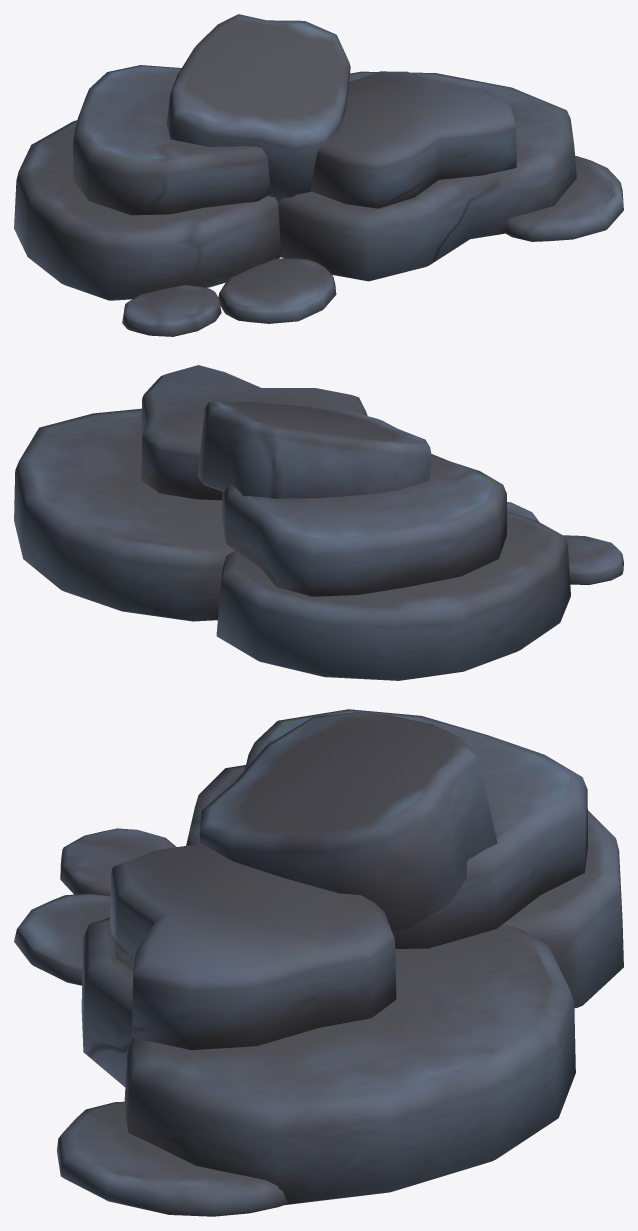
File: rock_3.fbx
3 renders of one model, top to bottom at view 1: azimuth 30°, elevation 25°; view 2: azimuth 150°, elevation 25°; view 3: azimuth 270°, elevation 25°, orthographic. The views are drawn at different scales.
Parts seen in each view (by area): view 1: rock_3; view 2: rock_3; view 3: rock_3.
Boxes of the visible parts, x1,y1,x2,y2 form: rock_3: (14,14,623,336); rock_3: (14,365,623,680); rock_3: (14,709,623,1216).
Size of the model in its own units: 120 by 38.34 by 81.64.
